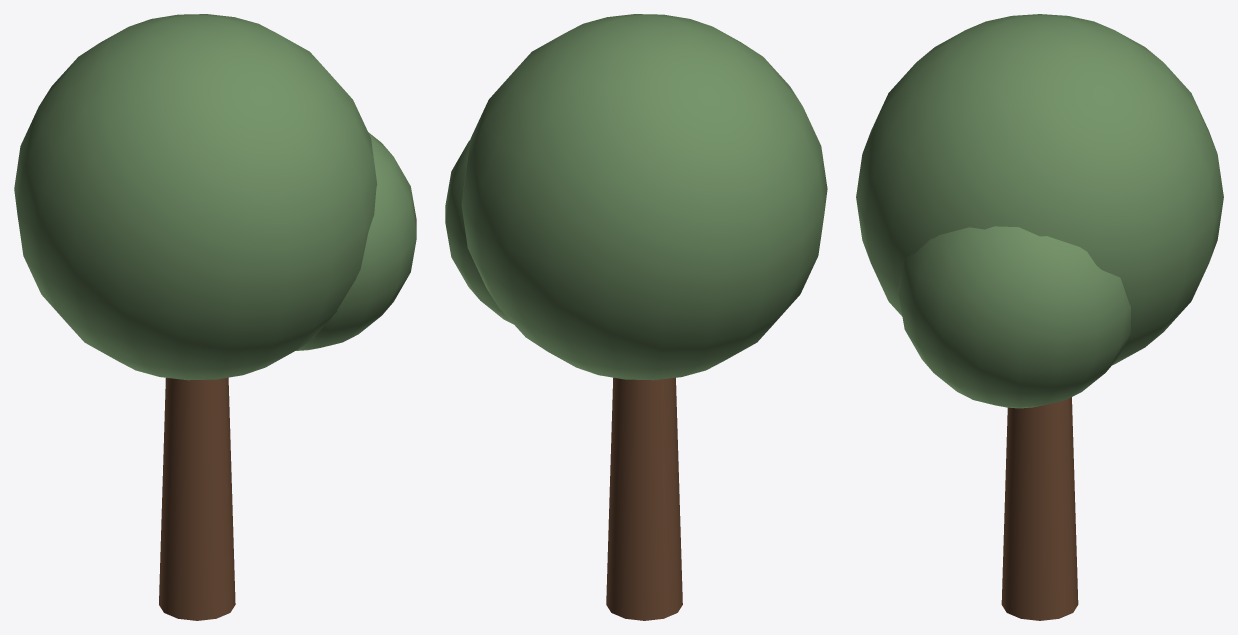
Rendered from component-garden-tree.meshopt.glb.
3 views of the same model, side by side, from view 1: azimuth 30°, elevation 25°; view 2: azimuth 150°, elevation 25°; view 3: azimuth 270°, elevation 25° (orthographic).
Visible parts, largest first — view 1: crown_main, trunk, crown_side; view 2: crown_main, trunk, crown_side; view 3: crown_main, crown_side, trunk.
Part boxes in pixels (box(x1,y1,x2,y2)): crown_main: box(14, 14, 377, 380); trunk: box(159, 377, 235, 620); crown_side: box(295, 132, 416, 350); crown_main: box(461, 14, 827, 380); trunk: box(606, 377, 682, 620); crown_side: box(445, 139, 513, 324); crown_main: box(856, 14, 1223, 365); crown_side: box(898, 226, 1130, 408); trunk: box(1001, 397, 1078, 620).
Size of the model in its own units: 0.8 by 1.24 by 0.72.
